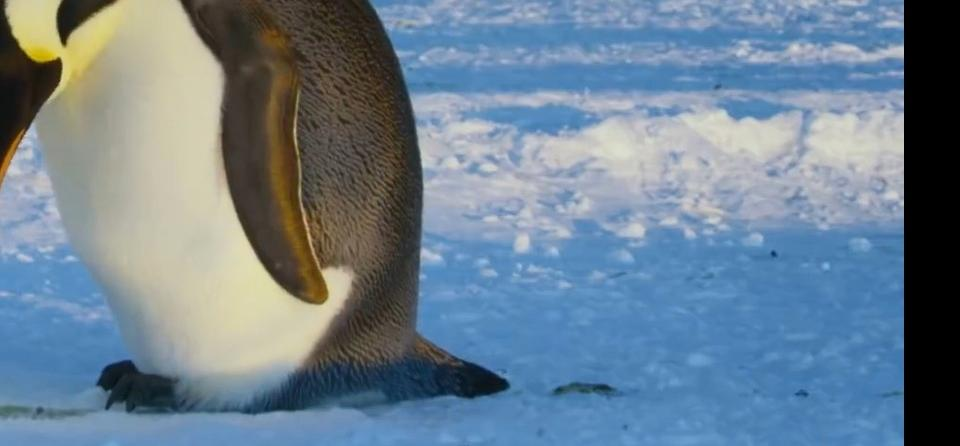Emperor Penguin: (0, 0, 510, 409), (0, 0, 73, 389)
